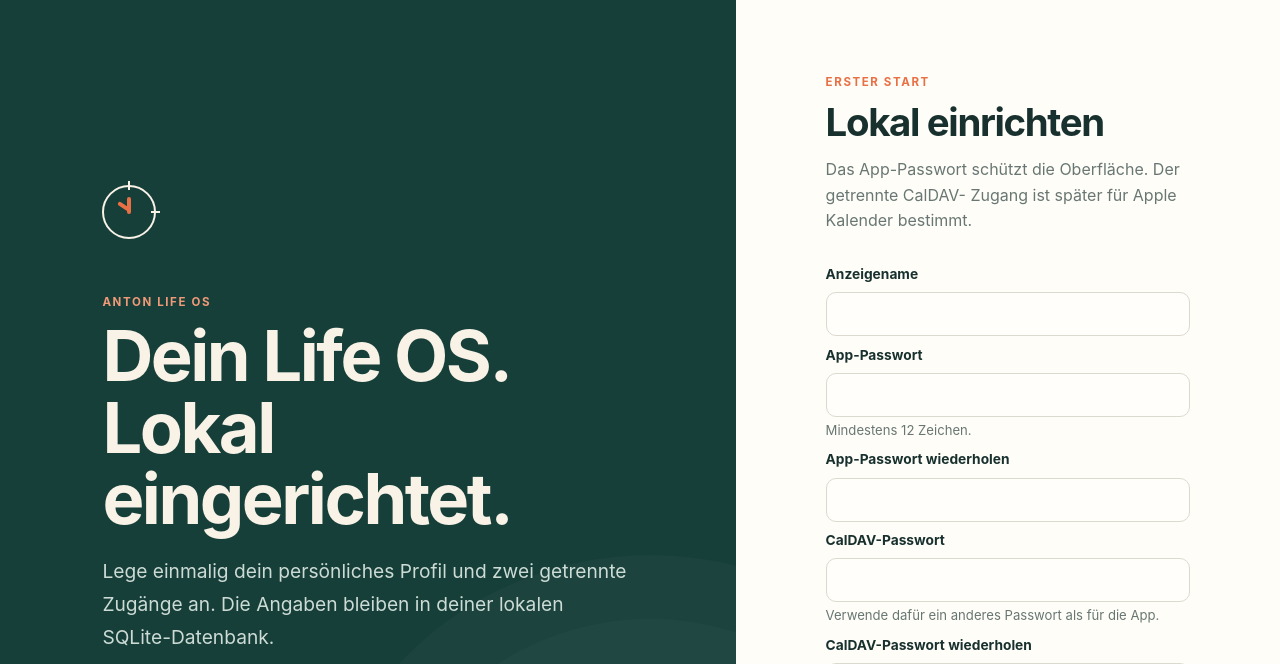
Scenario: LifeOS-Weboberfläche › richtet den ersten lokalen App-Start ohne Terminal ein
The width and height of the screenshot is (1280, 664).
Check: the heading "Lokal einrichten" is shown, box [826, 99, 1104, 145]
Type "Anton Lokal" into the field labelled "Anzeigename" at {"x": 1008, "y": 314}, box [826, 292, 1190, 336]
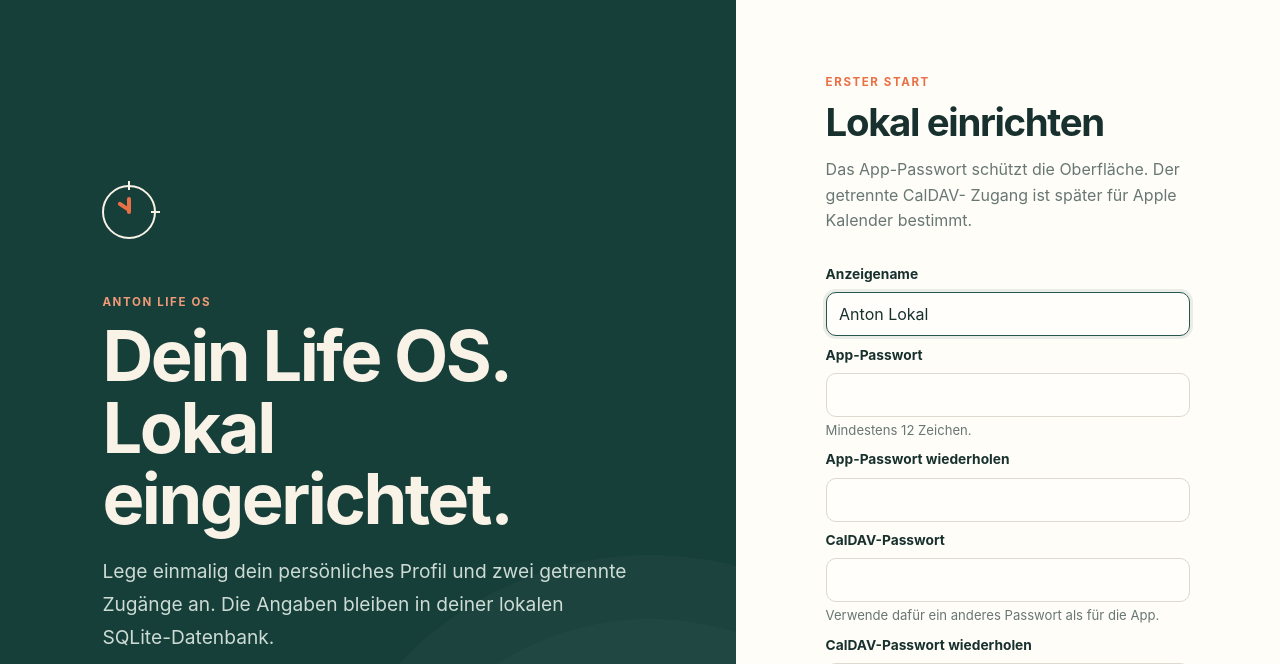
Type "synthetic-app-password-2032" into the password field labelled "App-Passwort" at {"x": 1008, "y": 395}, box [826, 373, 1190, 417]
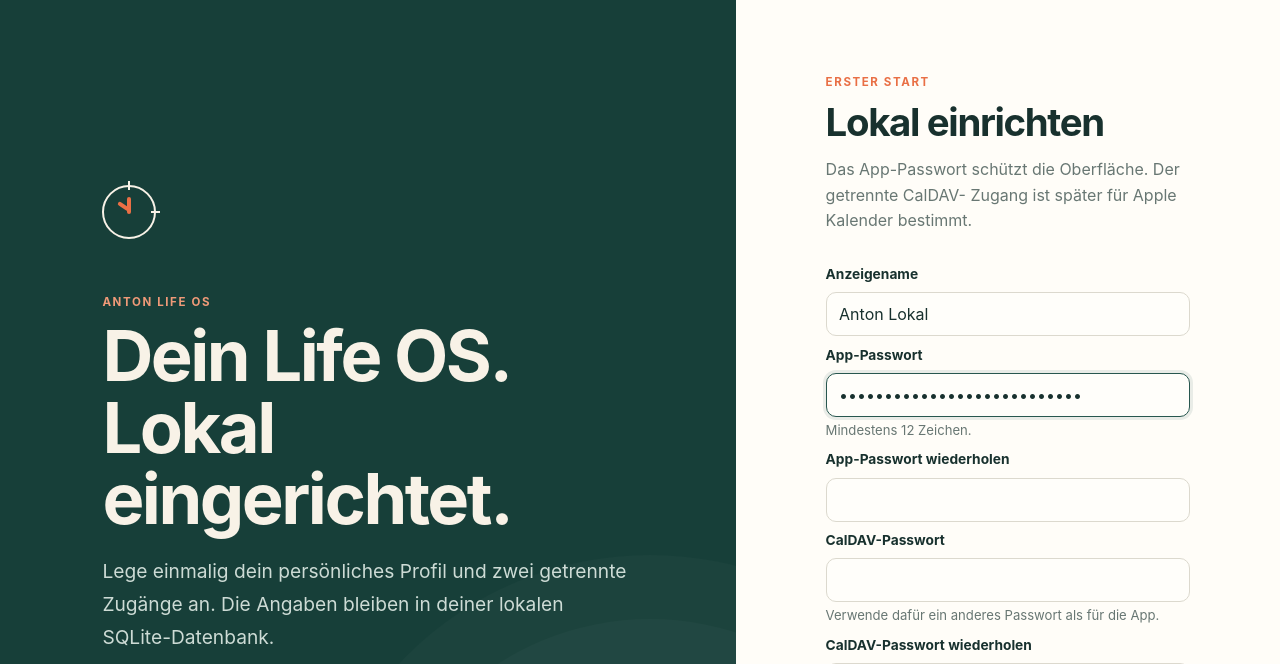
Type "synthetic-app-password-2032" into the password field labelled "App-Passwort wiederholen" at {"x": 1008, "y": 500}, box [826, 478, 1190, 522]
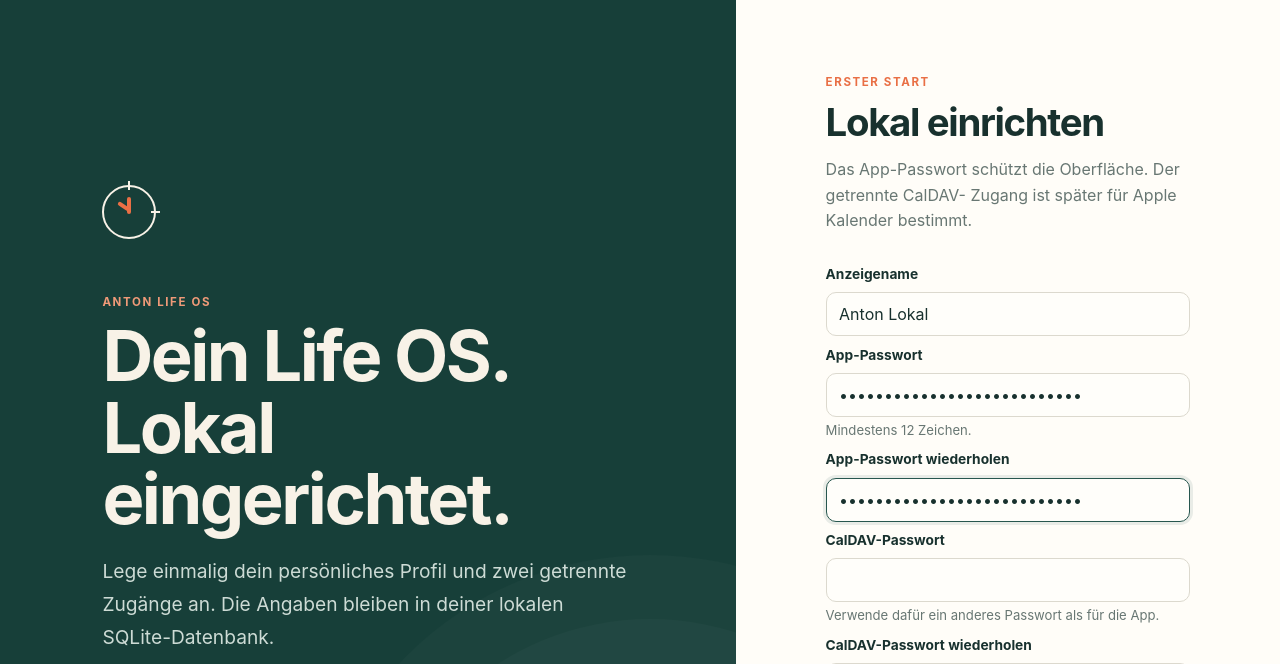
Type "synthetic-caldav-password-2032" into the password field labelled "CalDAV-Passwort" at {"x": 1008, "y": 580}, box [826, 558, 1190, 602]
(page scrolled)
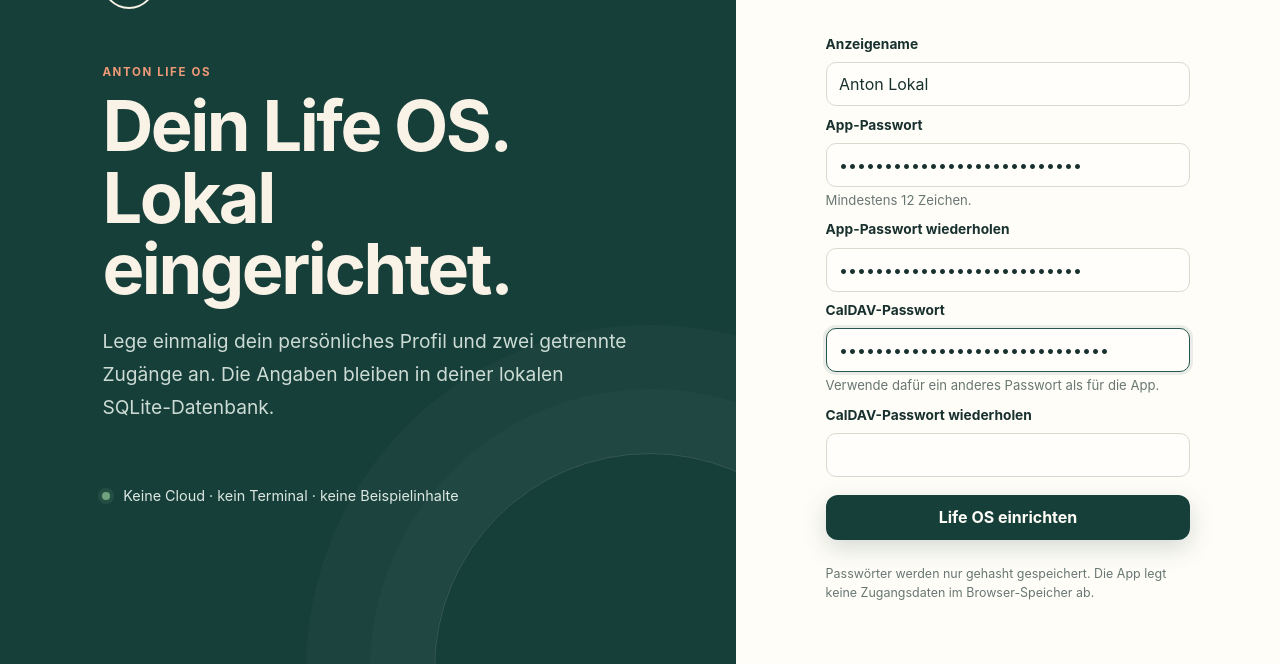
Type "synthetic-caldav-password-2032" into the password field labelled "CalDAV-Passwort wiederholen" at {"x": 1008, "y": 455}, box [826, 433, 1190, 477]
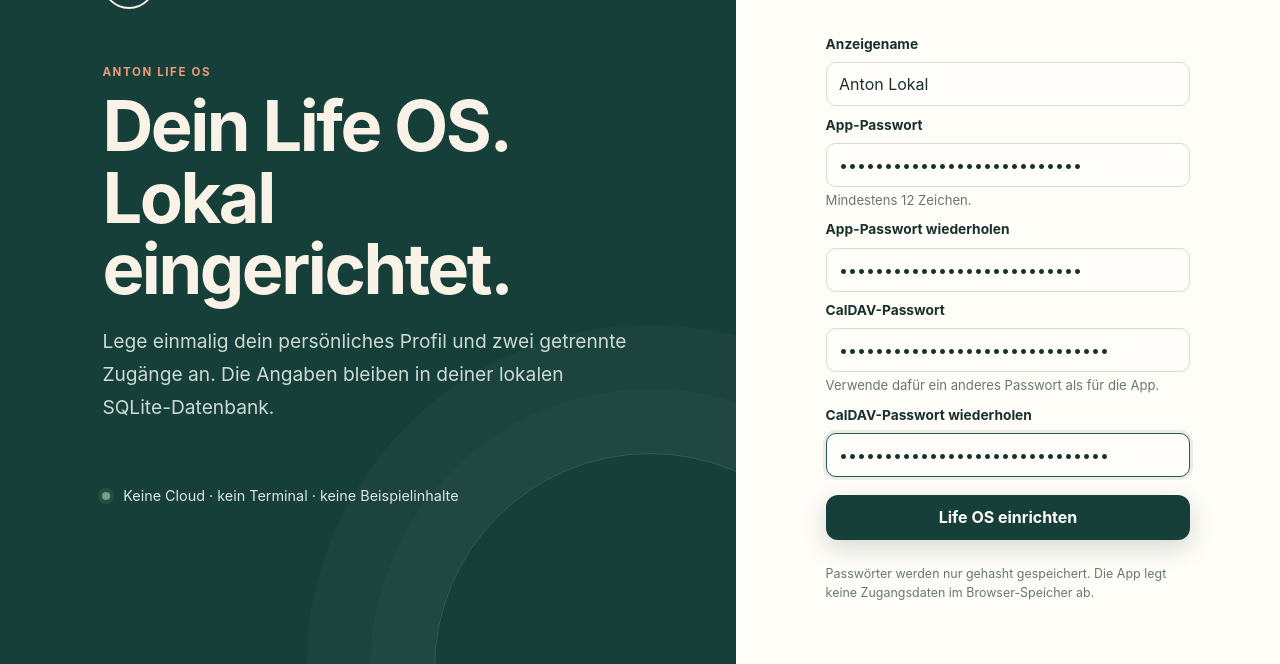
Click the button "Life OS einrichten" at {"x": 1008, "y": 517}, box [826, 495, 1190, 540]
(page scrolled)
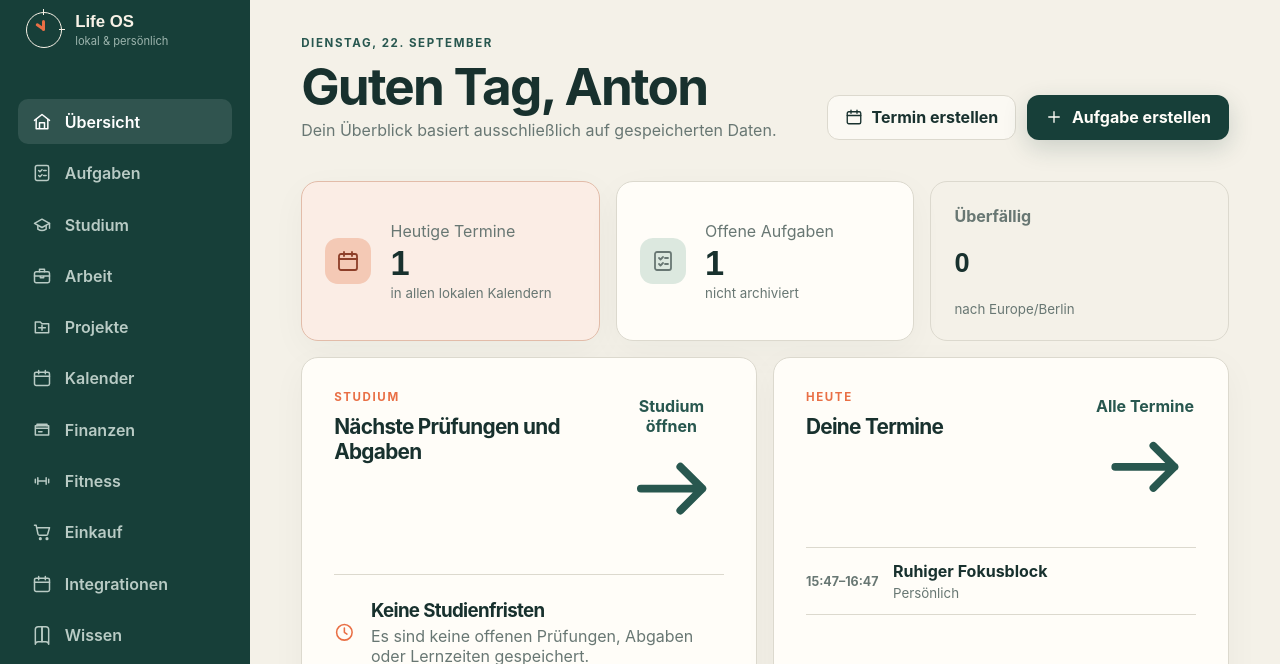
Check: the heading "Guten Tag, Anton" is shown, box [301, 61, 776, 112]
